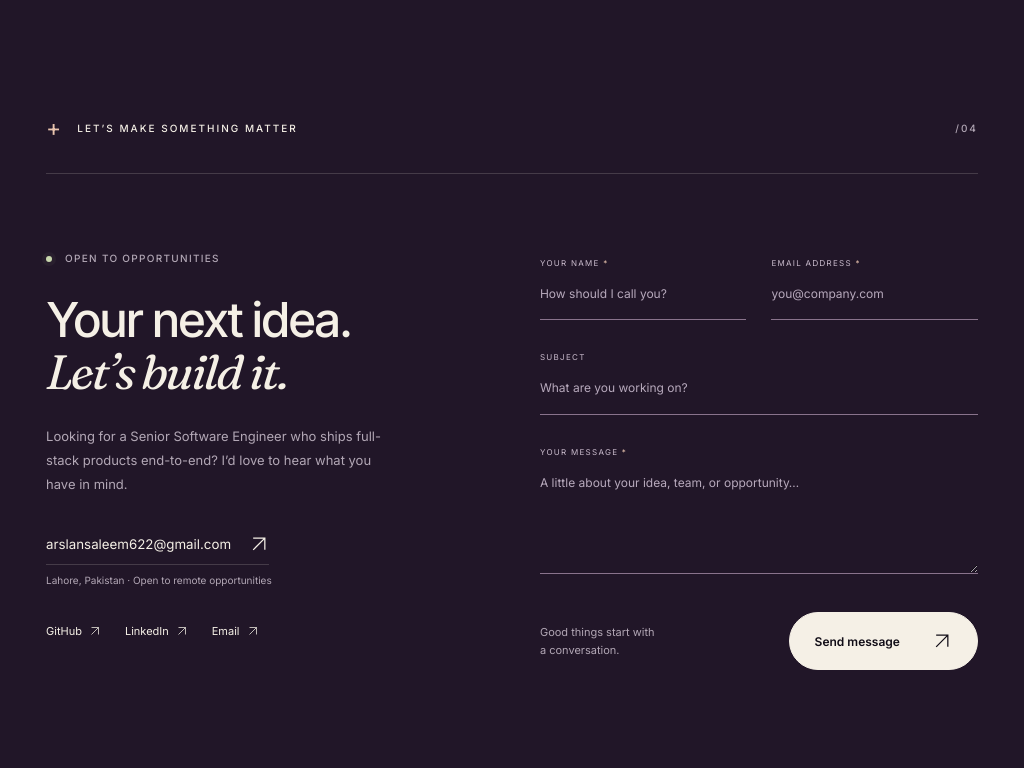
Scenario: preserves EmailJS template fields and resets only after success
Step 1. Type "Test Person" into the field labelled "YOUR NAME *" → {"x": 643, "y": 302}, box [540, 283, 746, 320]
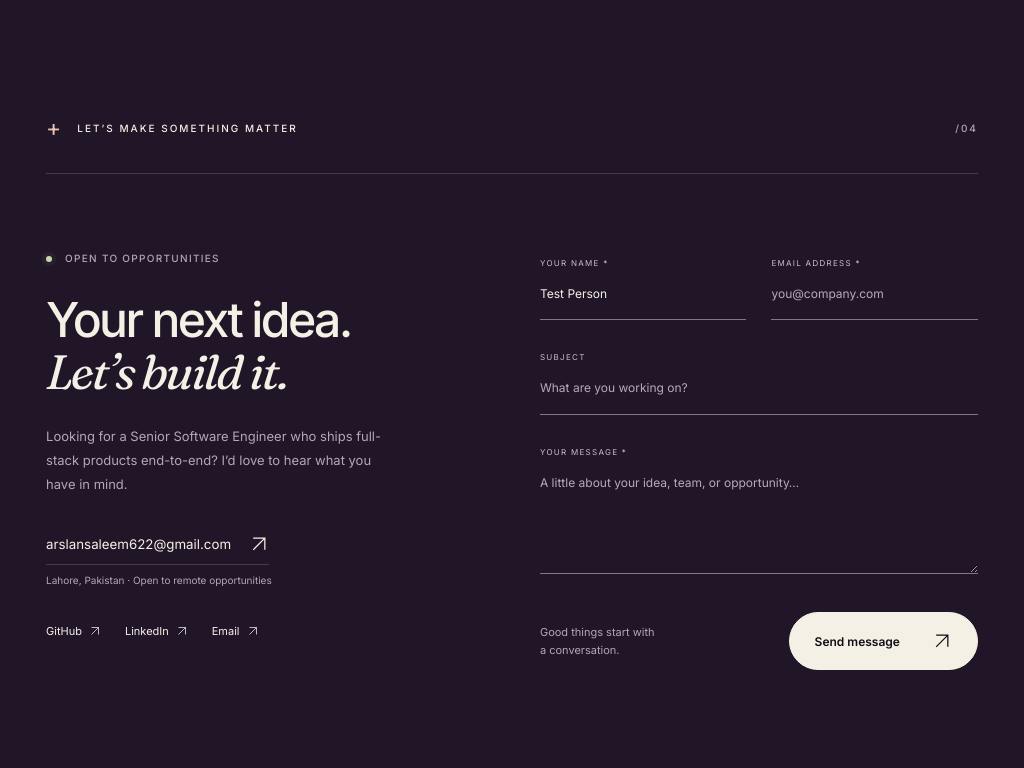
Step 2. Submit the form, box [540, 258, 978, 670]
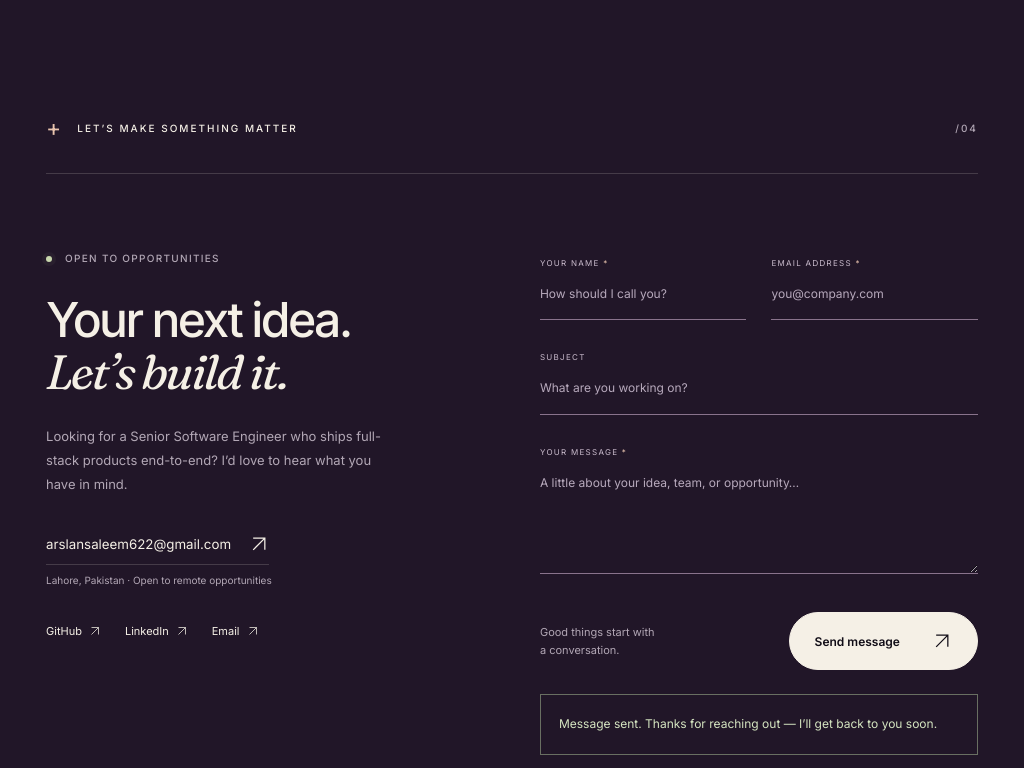
Check: the field labelled "YOUR NAME *" is empty, box [540, 283, 746, 320]
Check: the message "Message sent. Thanks for reaching out — I’ll get back to you soon." is shown, box [540, 694, 978, 755]
